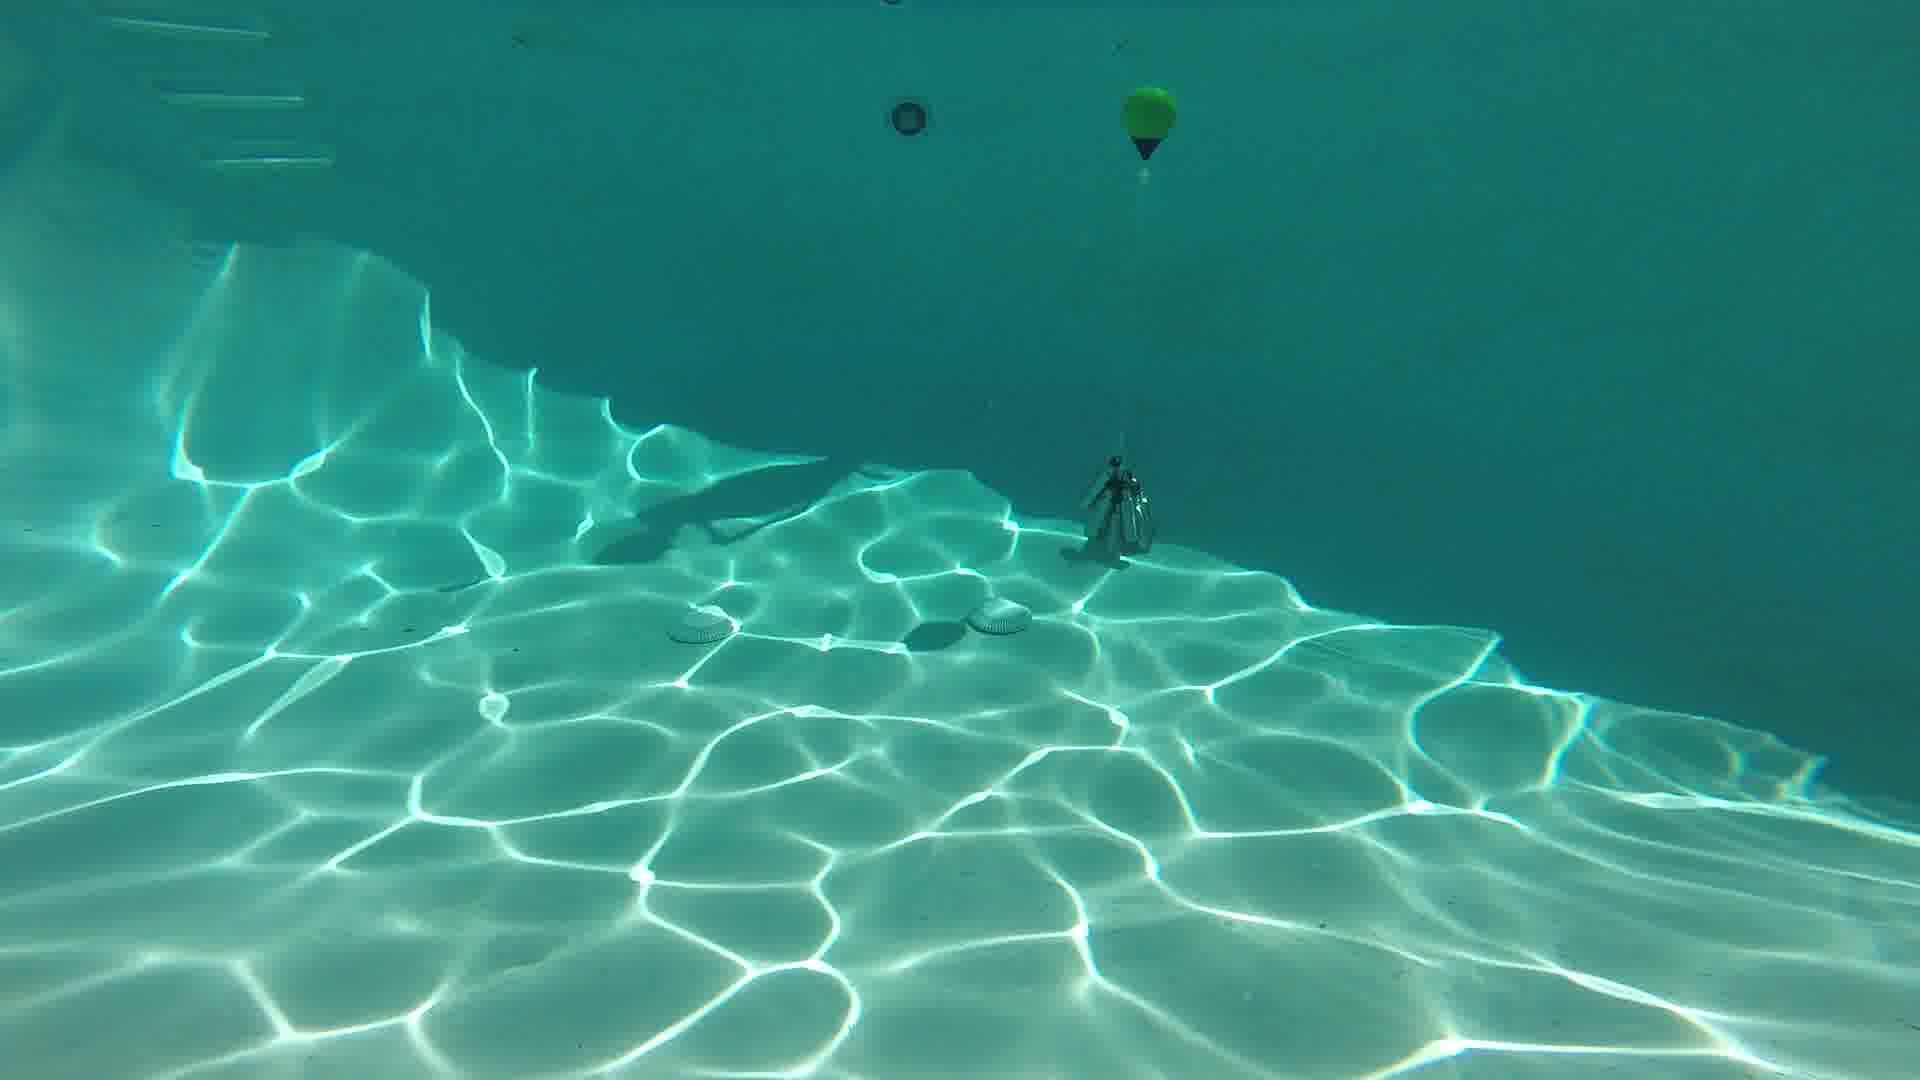yellow_buoy: (1120, 86, 1180, 160)
